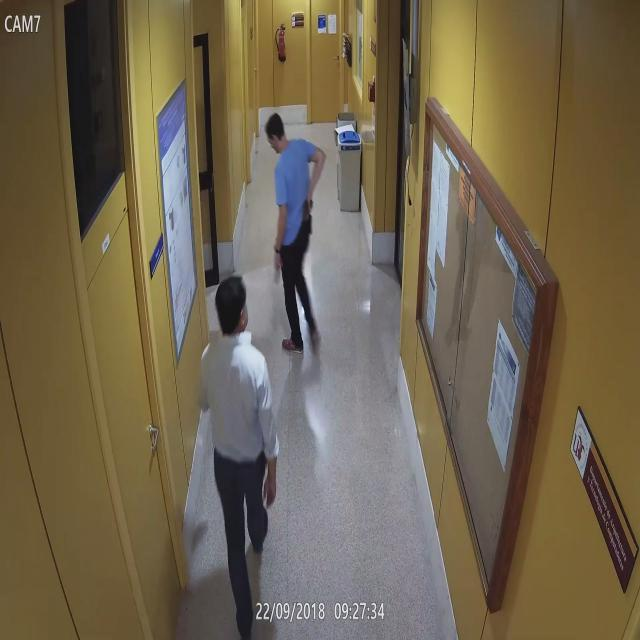weapon: (304, 198, 314, 235)
